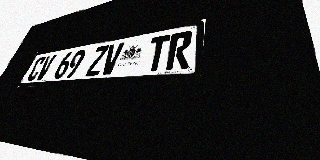6: (52, 51, 75, 79)
9: (63, 49, 87, 78)
C: (25, 56, 47, 81)
R: (165, 30, 193, 70)
T: (144, 34, 171, 72)
V: (99, 42, 125, 75), (34, 54, 57, 81)
Z: (85, 45, 109, 77)
